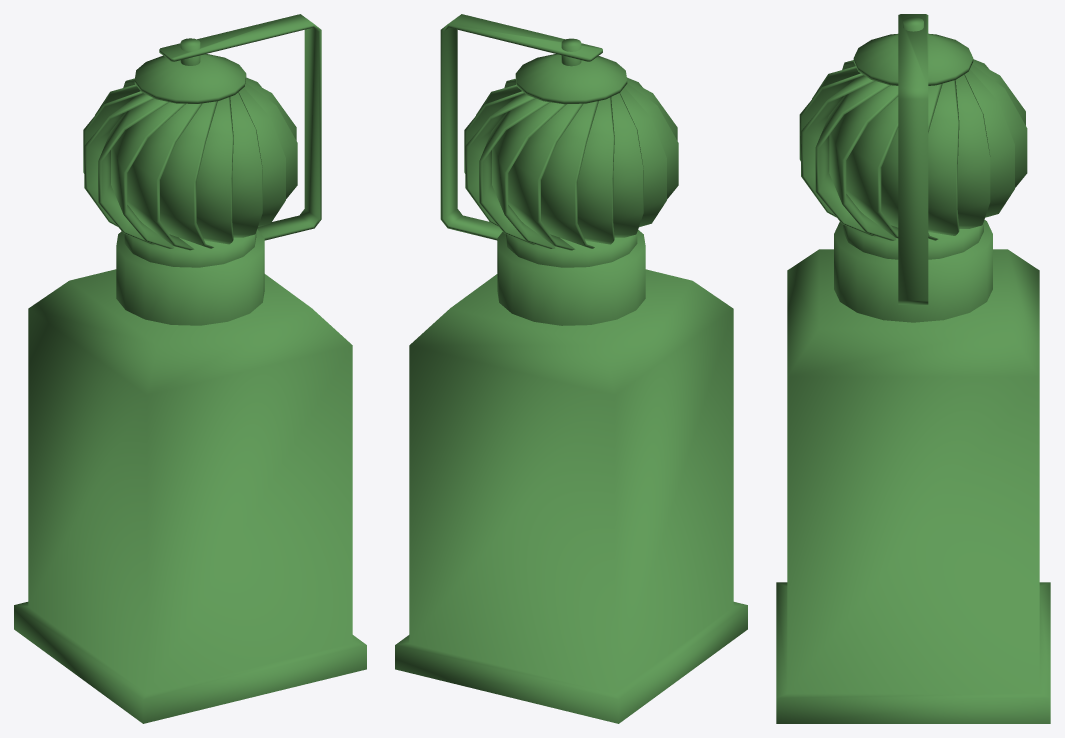
The model's file is Ventilation Fan.FBX.
The picture shows the model from 3 angles, left to right: view 1: azimuth 30°, elevation 25°; view 2: azimuth 150°, elevation 25°; view 3: azimuth 270°, elevation 25°; orthographic projection. The views are drawn at different scales.
Visible parts, largest first — view 1: Ventilation fan 1, Ventilation fan 2; view 2: Ventilation fan 1, Ventilation fan 2; view 3: Ventilation fan 1, Ventilation fan 2.
Part boxes in pixels (left/top/right/bottom): Ventilation fan 1: left=14, top=14, right=366, bottom=723; Ventilation fan 2: left=83, top=77, right=297, bottom=267; Ventilation fan 1: left=395, top=14, right=747, bottom=723; Ventilation fan 2: left=464, top=77, right=678, bottom=267; Ventilation fan 1: left=776, top=14, right=1050, bottom=723; Ventilation fan 2: left=799, top=59, right=1027, bottom=259.
Bounding box in the file's own units: 91.72 × 226 × 87.01.
